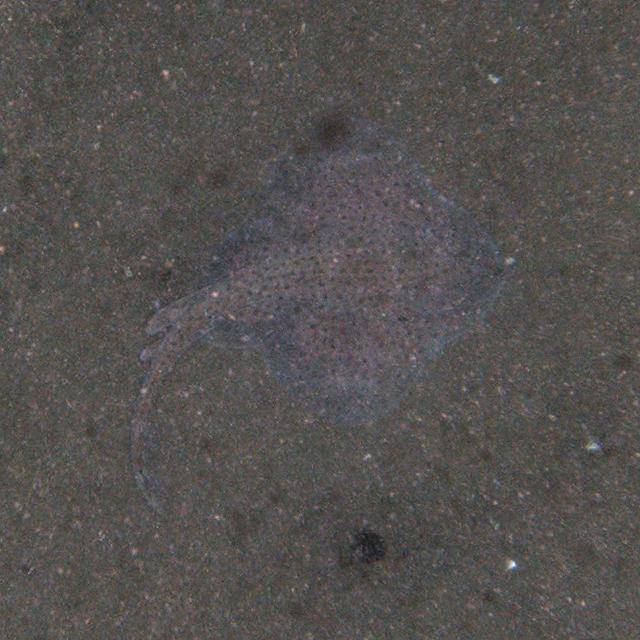skate: (130, 102, 503, 507)
